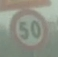limite 50: (1, 1, 57, 57)
